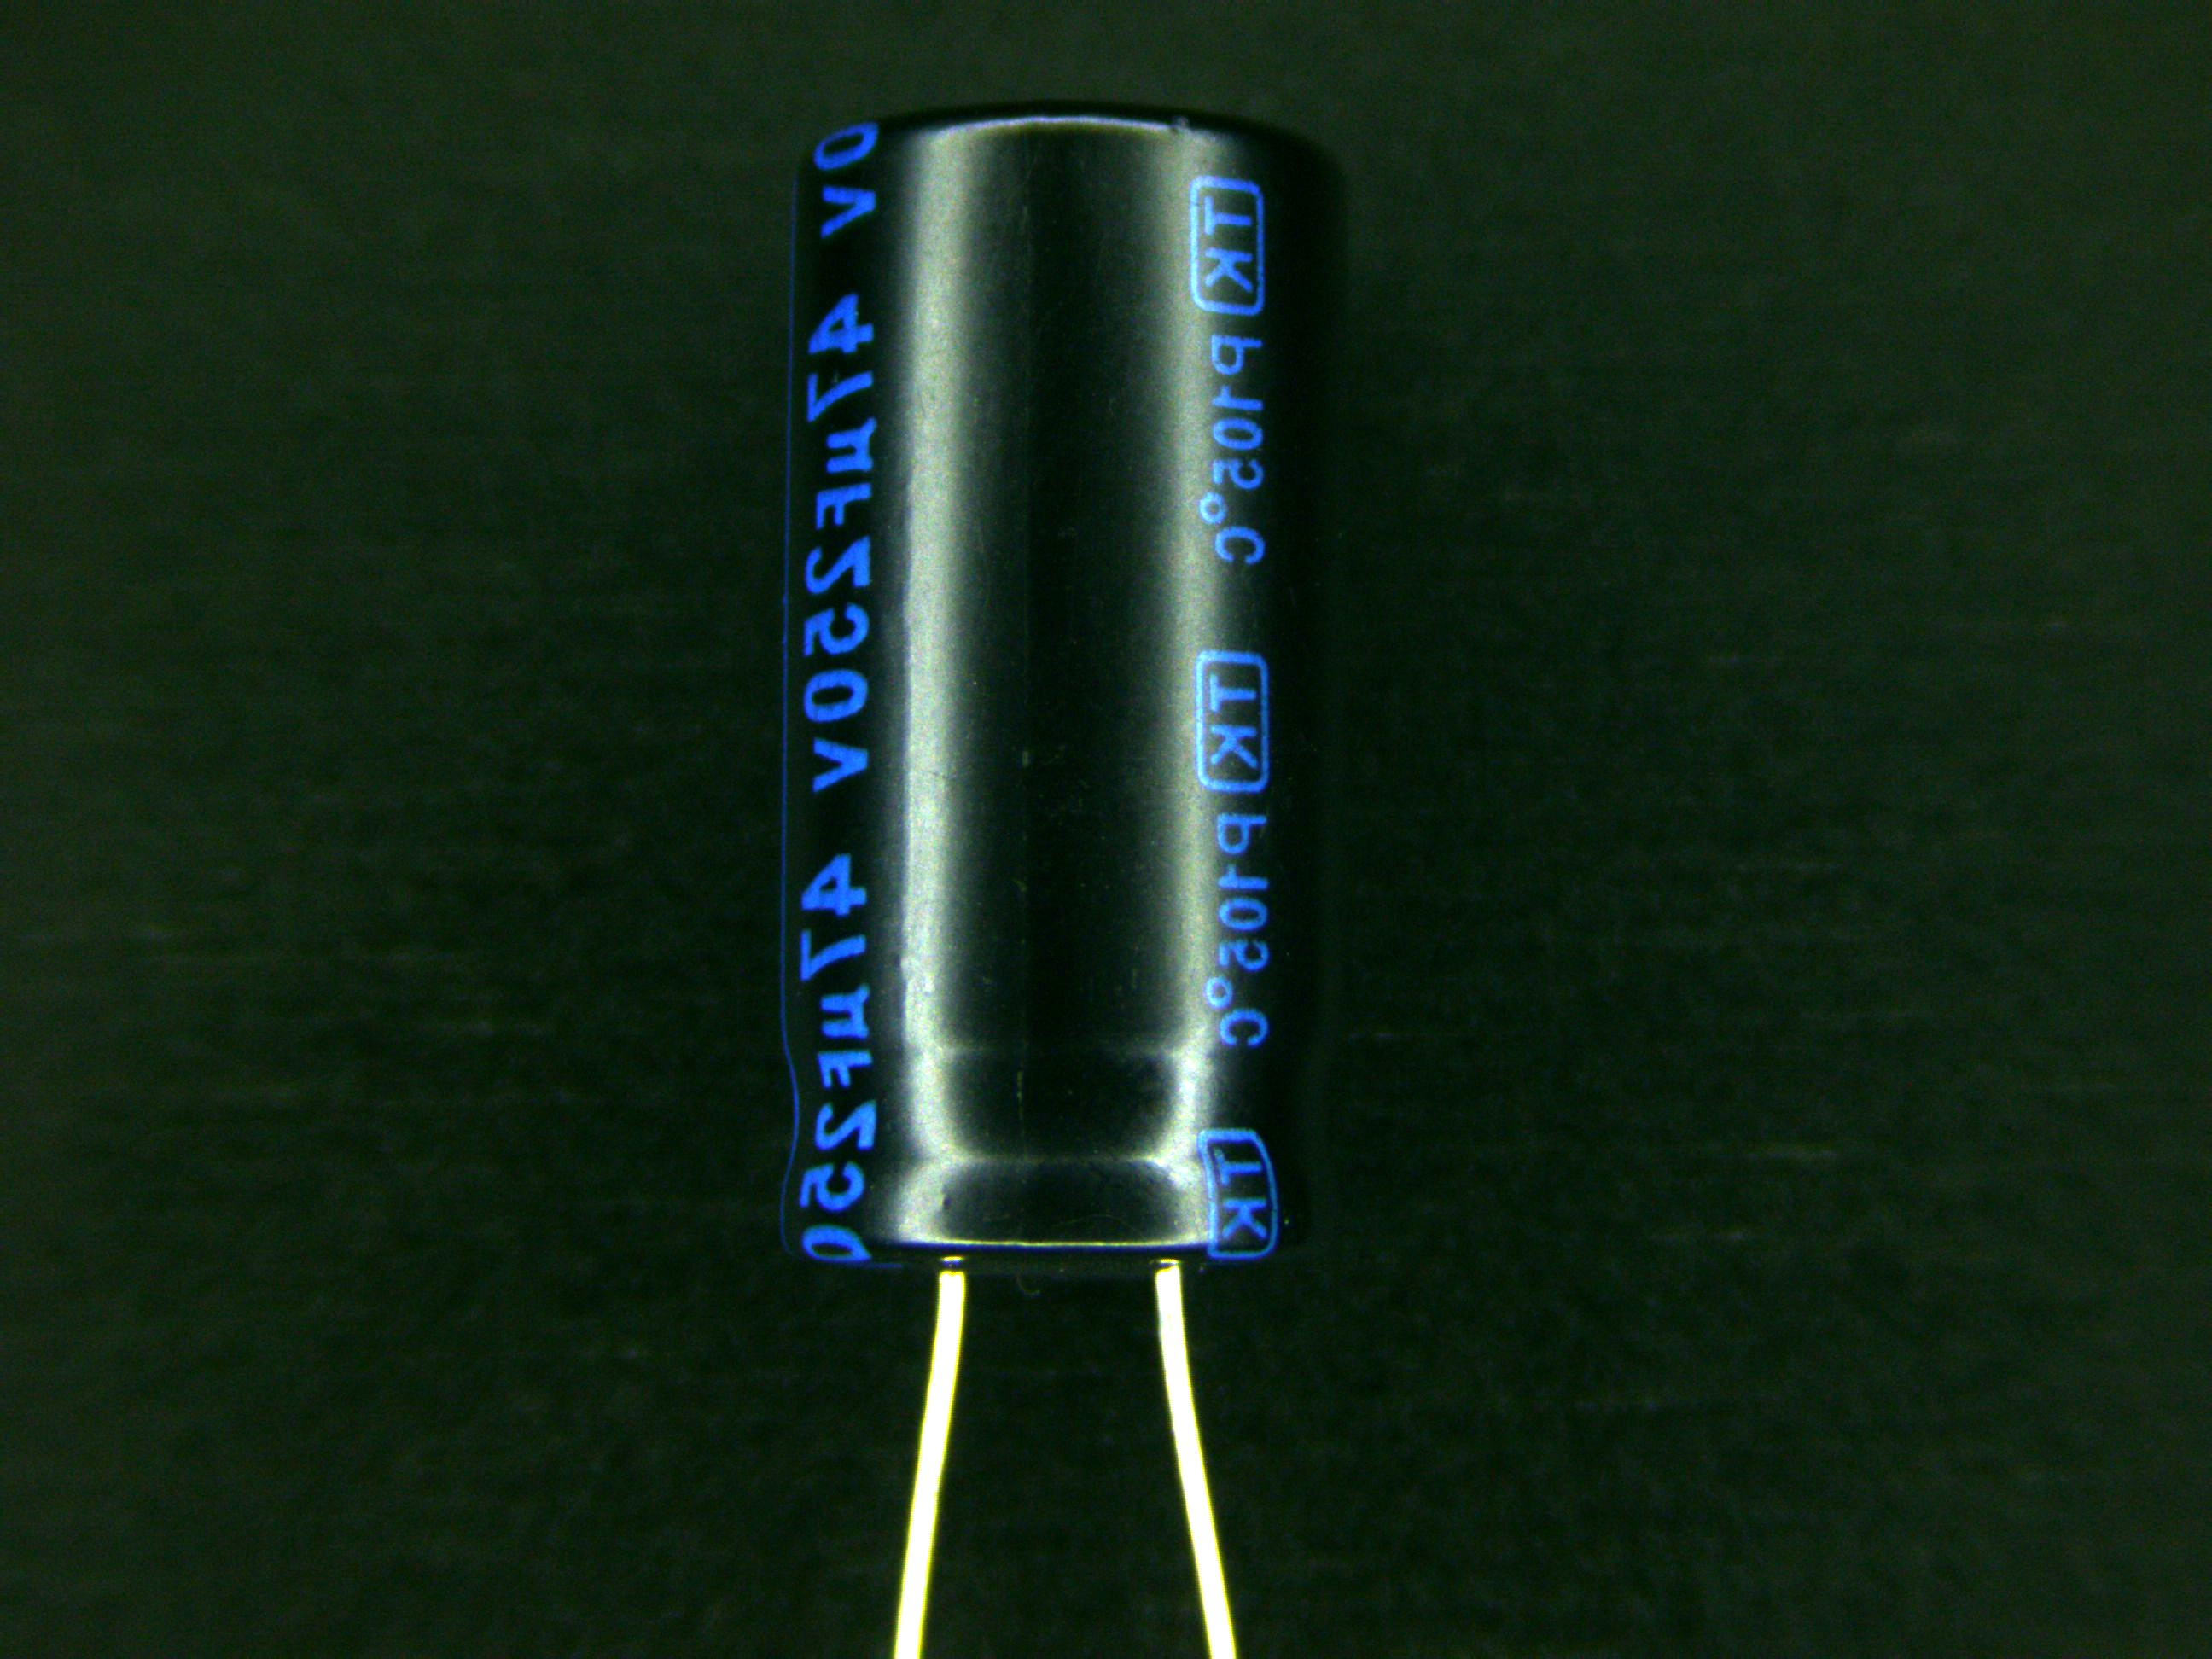c2: (775, 112, 1350, 1392)
